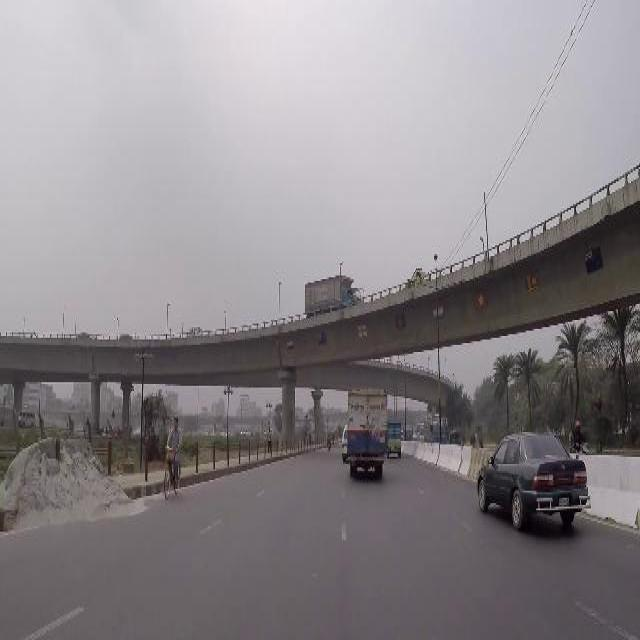10: (568, 418, 590, 452), (325, 432, 331, 450)
11: (347, 386, 387, 478), (387, 419, 401, 456)
13: (162, 415, 180, 499)
17: (449, 430, 461, 446)
18: (304, 274, 364, 313)
5: (477, 431, 591, 529)
Truck: (422, 412, 448, 442), (402, 424, 412, 440)
